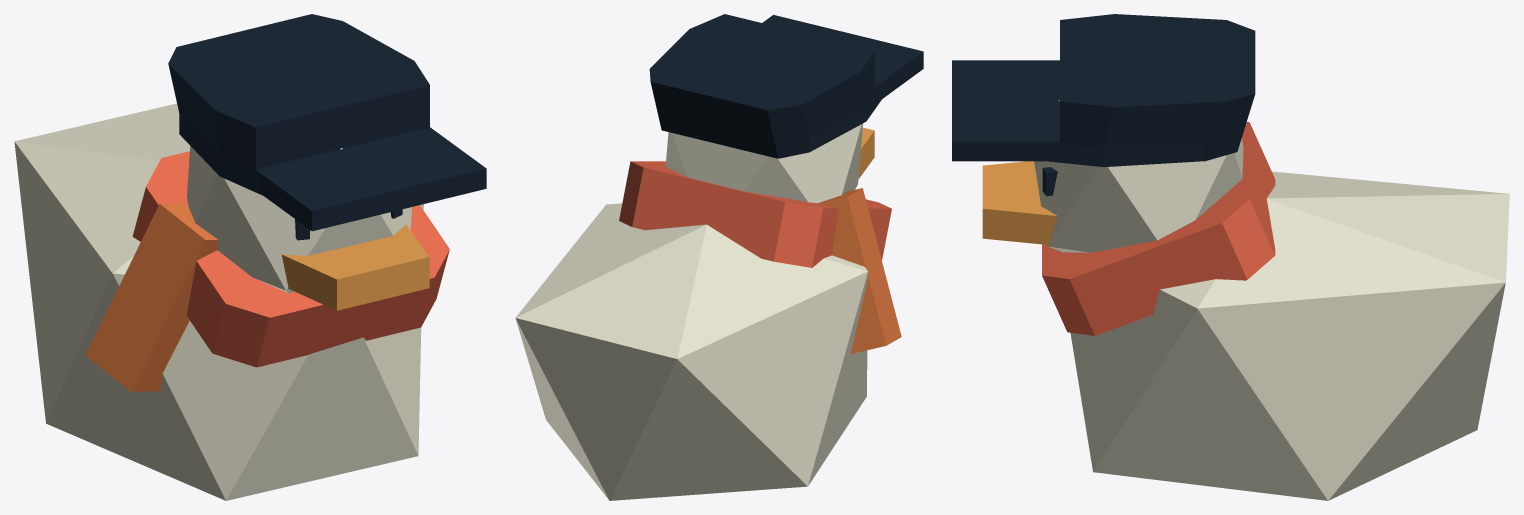
File: duck.fbx
3 renders of one model, left to right at view 1: azimuth 30°, elevation 25°; view 2: azimuth 150°, elevation 25°; view 3: azimuth 270°, elevation 25°, orthographic. The views are drawn at different scales.
Parts seen in each view (by area): view 1: Icosphere, Cube.002, Cube, Cube.001, Icosphere.001, Icosphere.002; view 2: Icosphere, Cube.002, Cube, Icosphere.001, Cube.001, Icosphere.002; view 3: Icosphere, Cube.002, Cube, Icosphere.001, Icosphere.002.
Boxes of the visible parts, x1=… form: Icosphere: x1=14, y1=103, x2=423, y2=500; Cube.002: x1=168, y1=14, x2=486, y2=231; Cube: x1=132, y1=151, x2=449, y2=367; Cube.001: x1=85, y1=203, x2=218, y2=391; Icosphere.001: x1=187, y1=146, x2=412, y2=293; Icosphere.002: x1=281, y1=224, x2=429, y2=310; Icosphere: x1=515, y1=203, x2=868, y2=500; Cube.002: x1=649, y1=14, x2=923, y2=158; Cube: x1=619, y1=161, x2=891, y2=267; Icosphere.001: x1=665, y1=123, x2=862, y2=203; Cube.001: x1=817, y1=188, x2=901, y2=353; Icosphere.002: x1=858, y1=127, x2=874, y2=179; Icosphere: x1=1070, y1=171, x2=1509, y2=500; Cube.002: x1=952, y1=14, x2=1255, y2=166; Cube: x1=1042, y1=122, x2=1275, y2=335; Icosphere.001: x1=1034, y1=100, x2=1243, y2=252; Icosphere.002: x1=982, y1=161, x2=1057, y2=245.
Bounding box in the file's own units: 156 × 201 × 236.
